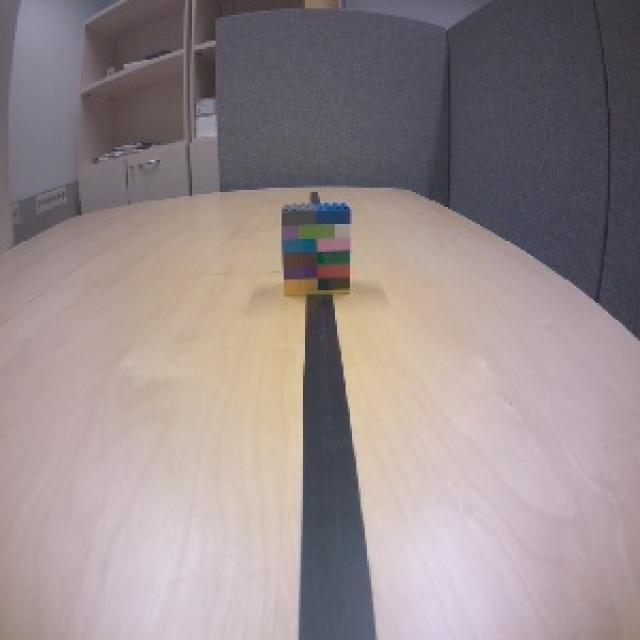obstacle: (280, 199, 353, 298)
